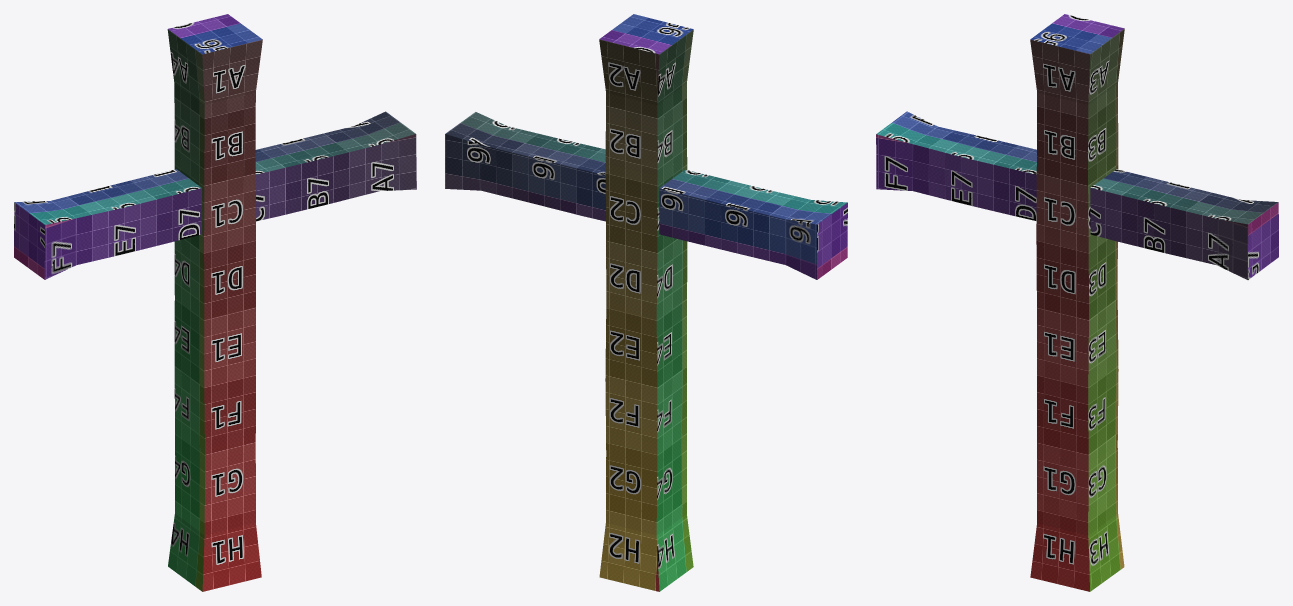
File: cross.glb
3 renders of one model, left to right at view 1: azimuth 30°, elevation 25°; view 2: azimuth 150°, elevation 25°; view 3: azimuth 330°, elevation 25°, orthographic.
Parts seen in each view (by area): view 1: Cube; view 2: Cube; view 3: Cube.
Part boxes in pixels (x1=…): Cube: x1=14, y1=14, x2=416, y2=591; Cube: x1=445, y1=14, x2=847, y2=591; Cube: x1=876, y1=14, x2=1278, y2=591.
Bounding box in the file's own units: 4.73 × 6.54 × 0.7686.
Materials: 1 (1 with a texture image).
